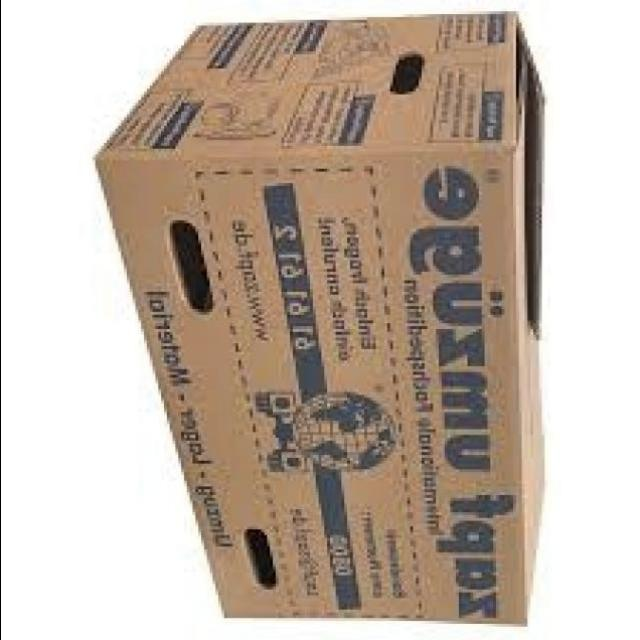cardboard paper: (101, 15, 543, 625)
